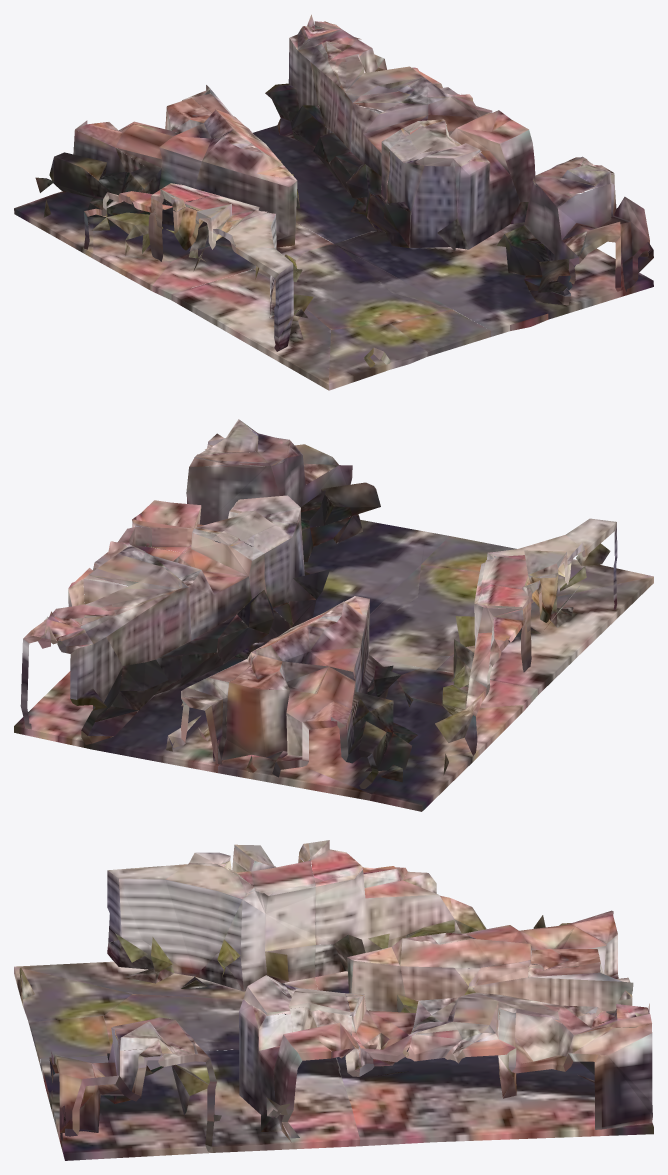
3 renders of one model, top to bottom at view 1: azimuth 30°, elevation 25°; view 2: azimuth 150°, elevation 25°; view 3: azimuth 270°, elevation 25°, orthographic. The views are drawn at different scales.
Parts seen in each view (by area): view 1: Mesh_0; view 2: Mesh_0; view 3: Mesh_0.
Part boxes in pixels (bbox=[...]): Mesh_0: bbox=[14, 14, 653, 390]; Mesh_0: bbox=[14, 419, 653, 811]; Mesh_0: bbox=[14, 840, 653, 1160].
Bounding box in the file's own units: 133 × 34.64 × 165.
Materials: 2 (2 with a texture image).
